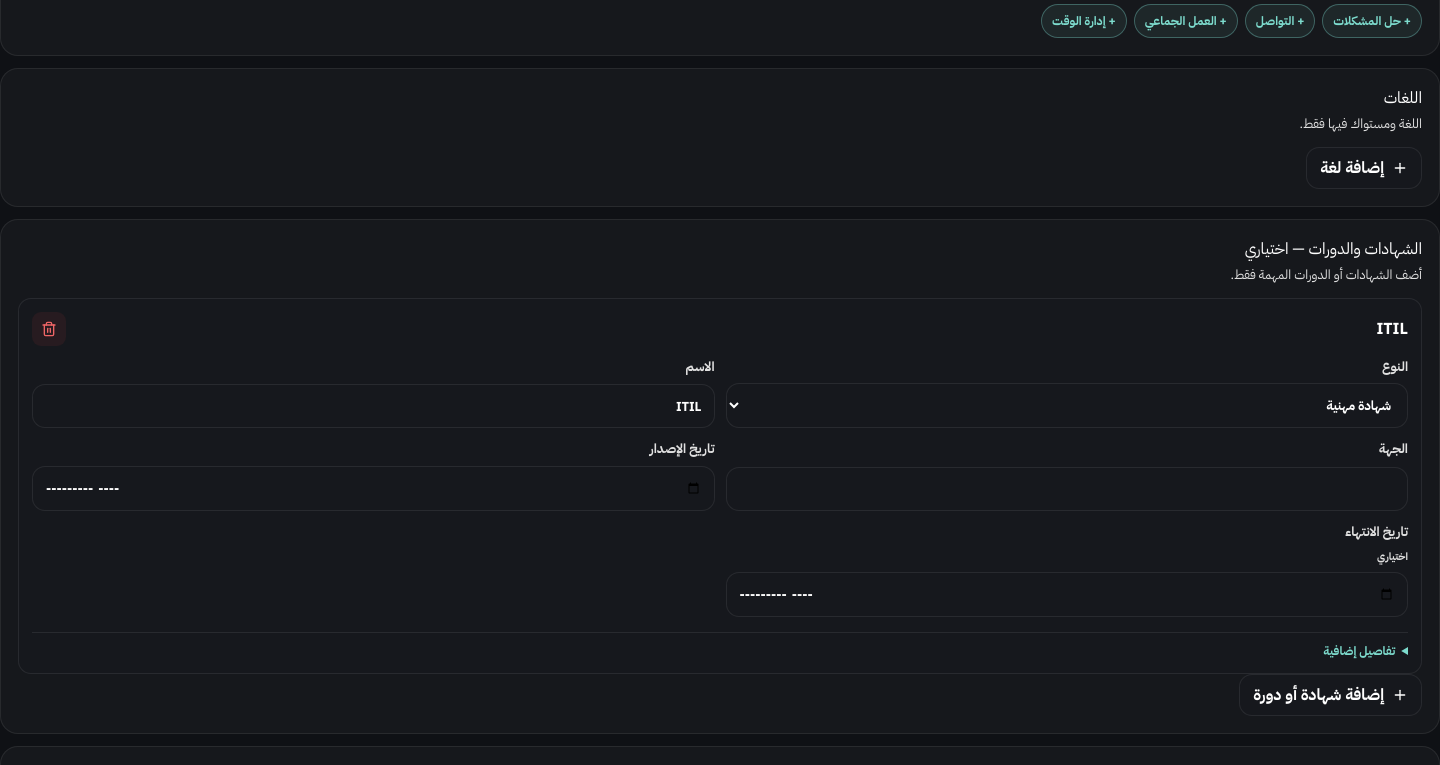
Test: simplified Resume Data form › shows expiry only for professional certifications
(page scrolled)
Expected: the text "تاريخ الانتهاء" is shown, x1=1345 y1=522 x2=1408 y2=541
Select "دورة" in the dropdown showing "شهادة مهنية" at (1067, 406), box x1=726 y1=383 x2=1408 y2=428
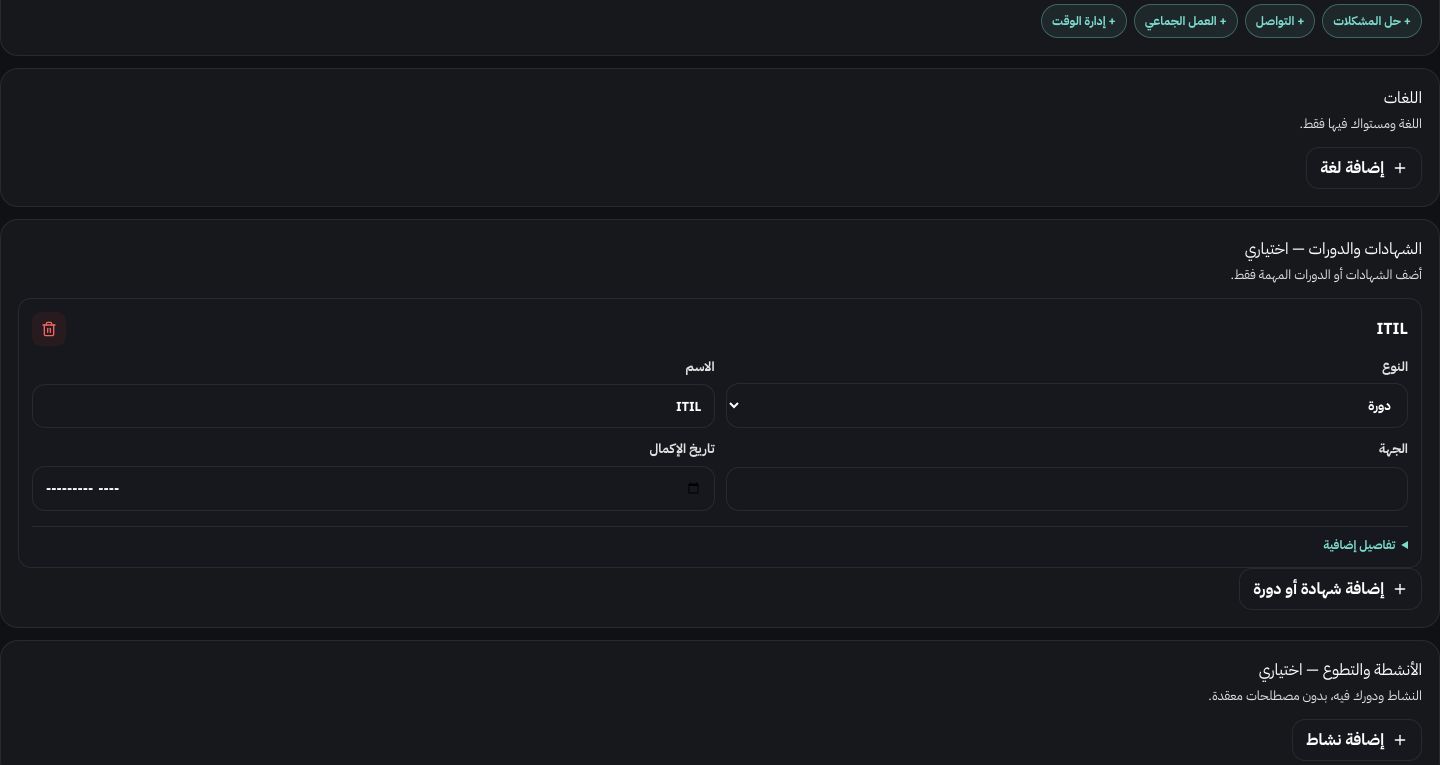
Expected: the text "تاريخ الإكمال" is shown, x1=32 y1=439 x2=714 y2=511
Expected: the text "تاريخ الانتهاء" is gone
